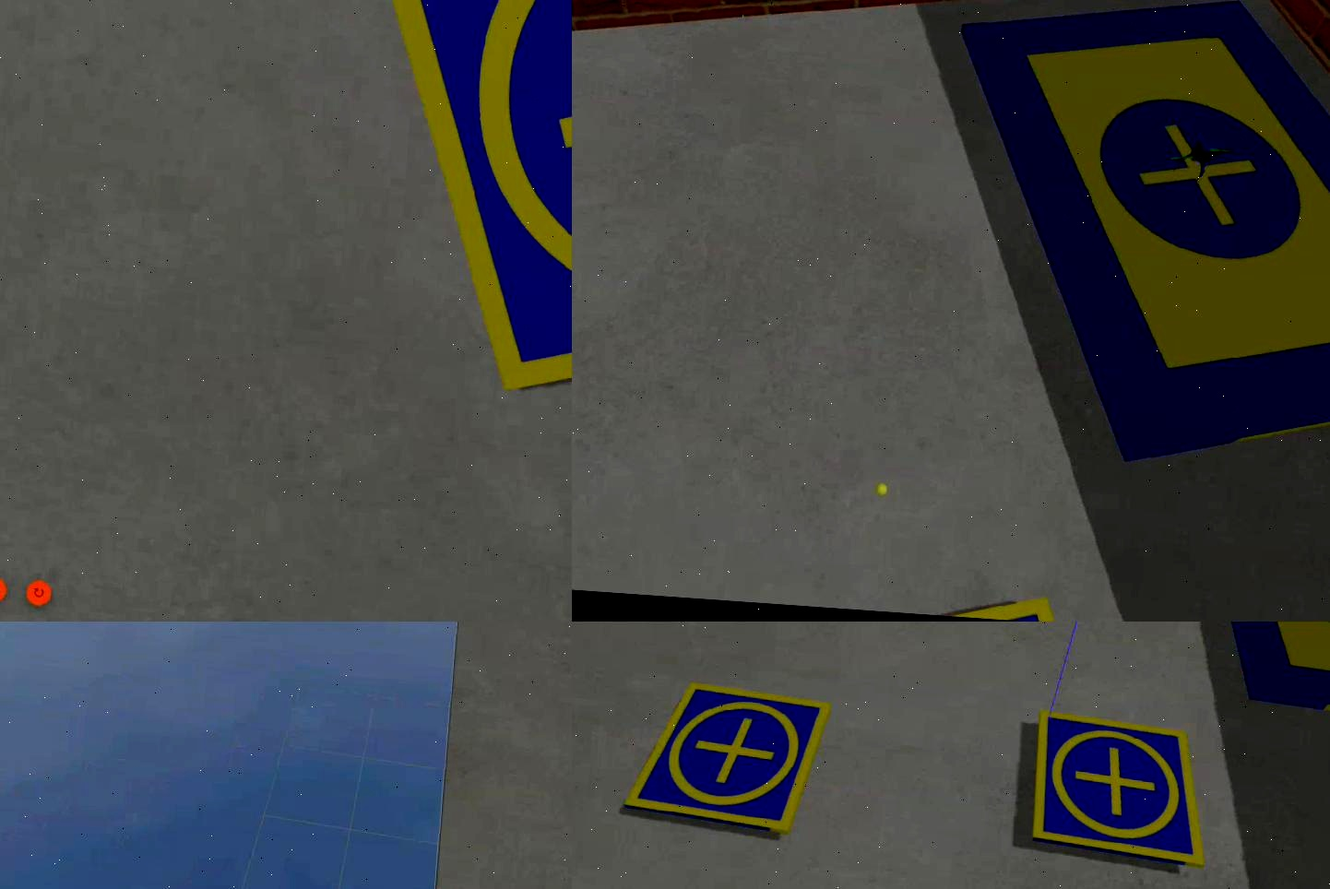large_base: (930, 1, 1330, 488)
small_base: (322, 1, 573, 430), (624, 683, 833, 836), (1027, 716, 1214, 871)
